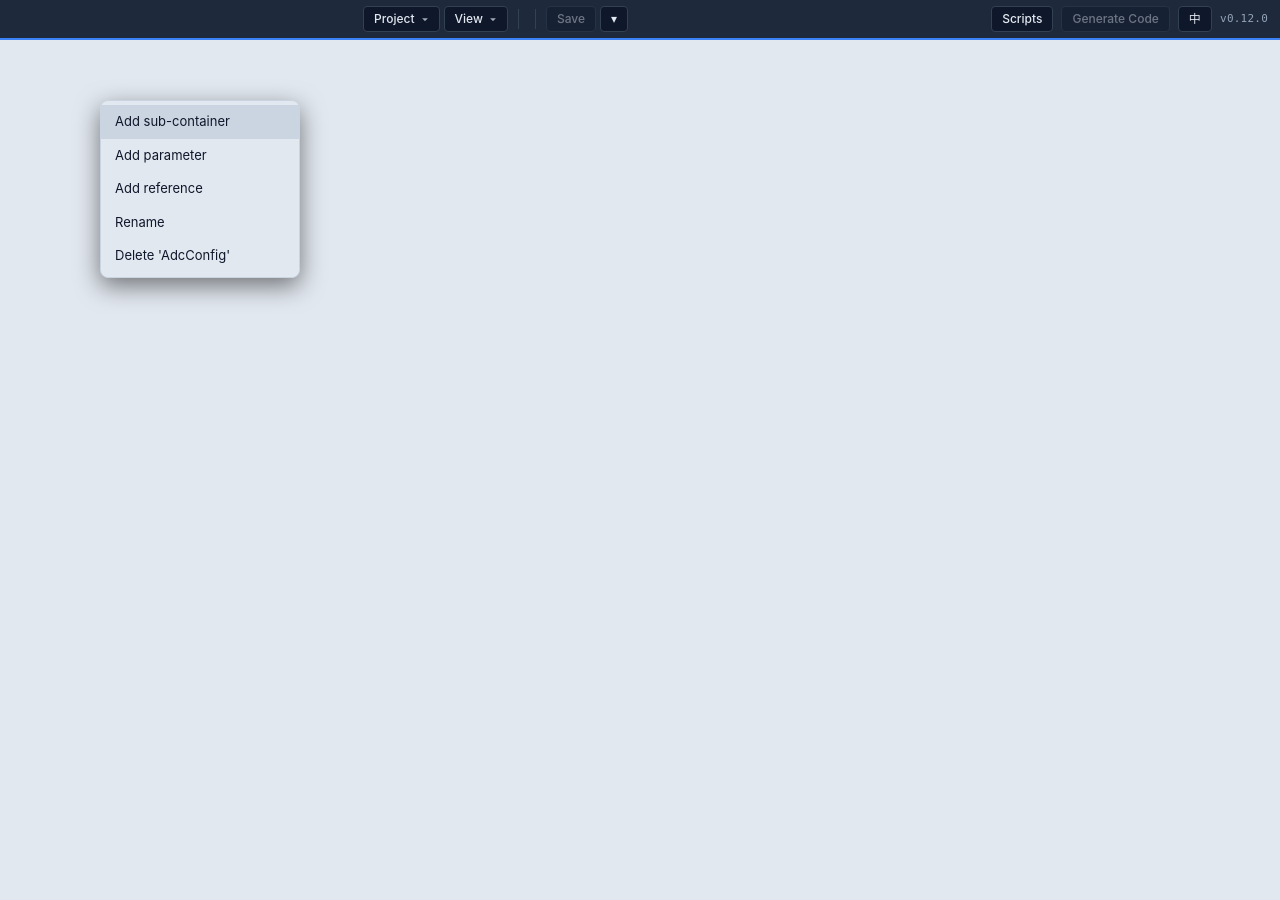
Scenario: App (Sprint A X2 — context menu + picker wiring) › routes add-parameter action to openBswmdPicker({ kind: "parameter" })
This screenshot has width=1280, height=900.
Check: the menu with test id "context-menu" is shown, box [100,100,300,278]
What coordinates should you click on to do the following:
click the menu item with test id "context-menu-item-add-parameter"
I would click on:
 (161, 154)
Its box is [115,146,207,162].
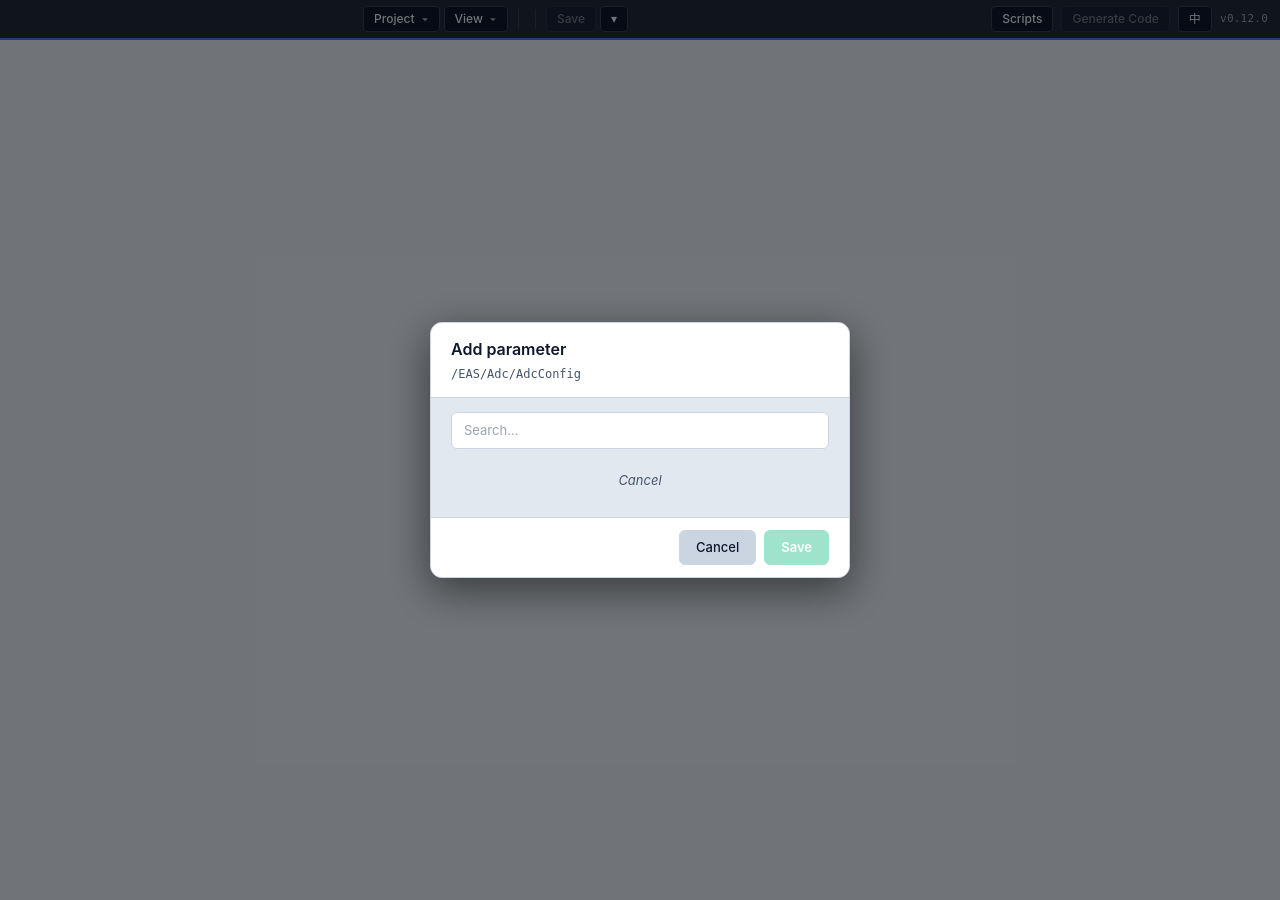
Check: the element with test id "bspd-overlay" is shown
